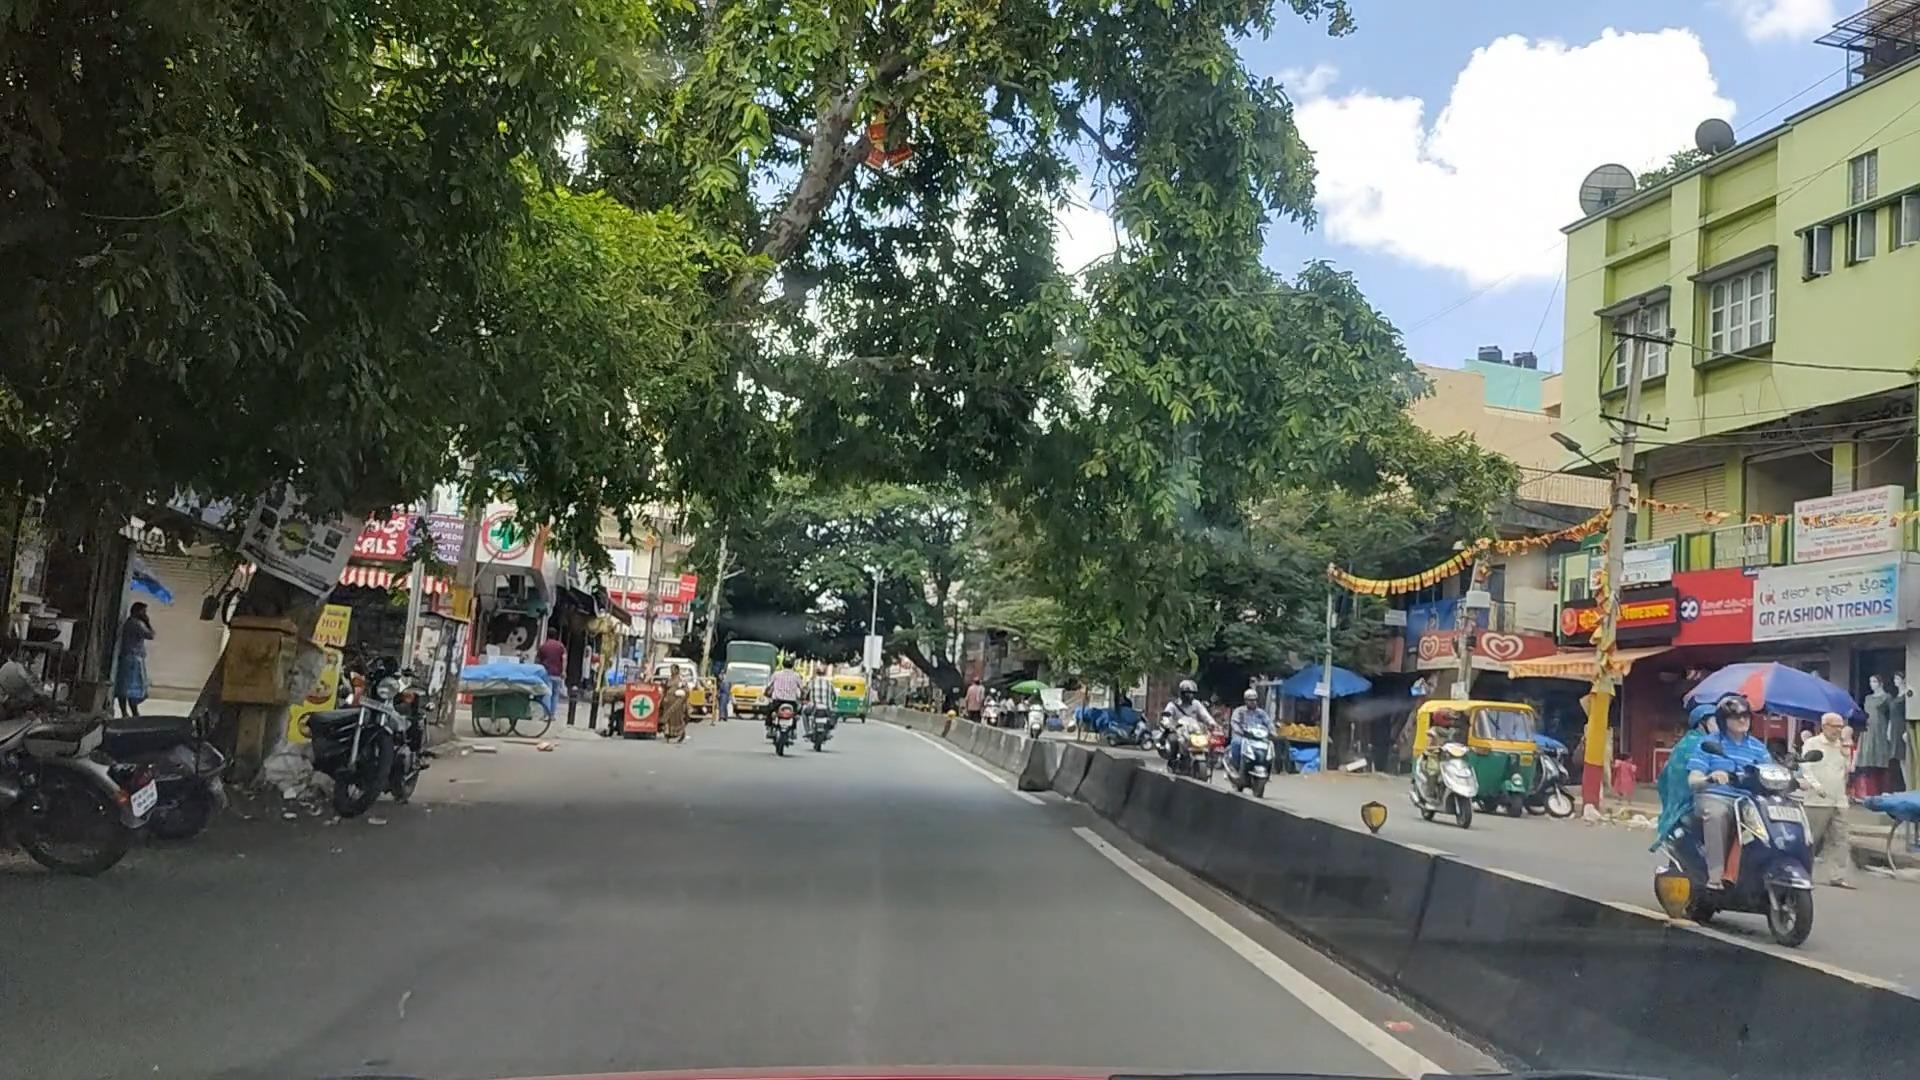RoadDamages: (373, 958, 427, 1032)
